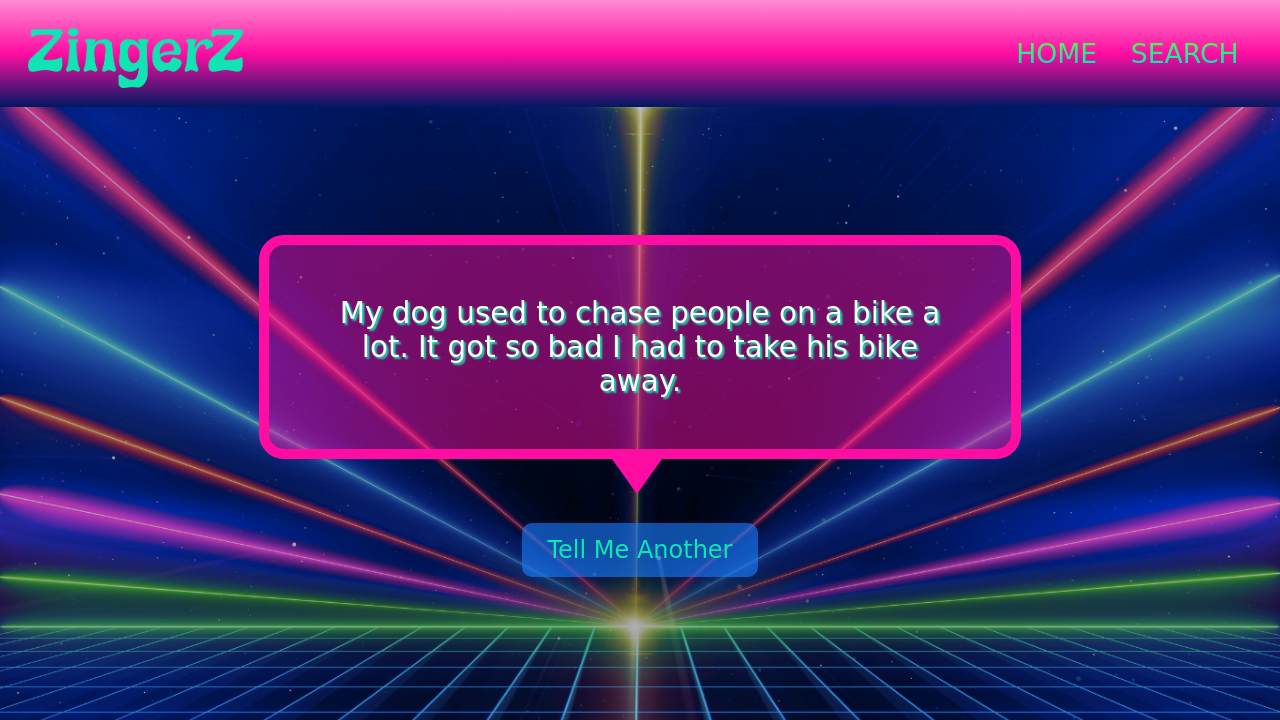
Test: home page - sad paths › should show an error message when the joke button is clicked and the fetch fails
The width and height of the screenshot is (1280, 720).
Click the button with class "new-joke-btn". click: (640, 550)
box: [522,523,758,577]
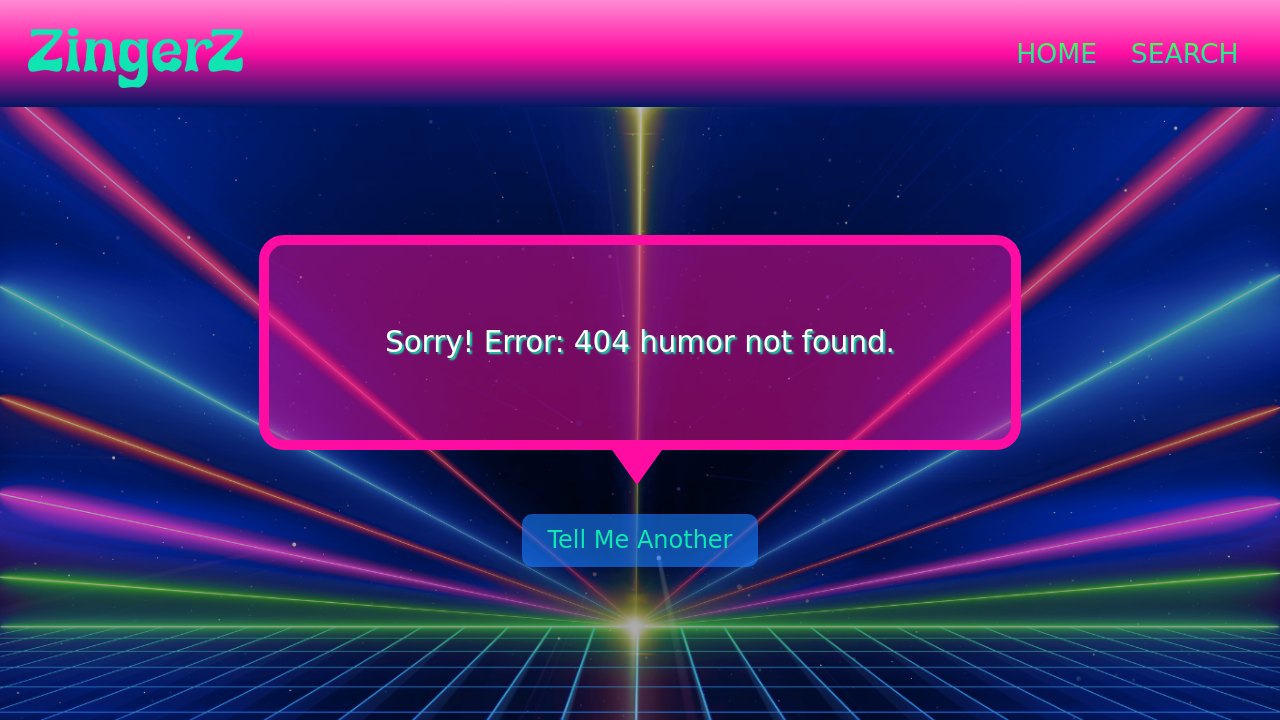
Check: the text "Sorry! Error: 404 humor not found." is shown, box [385,325,895,359]
